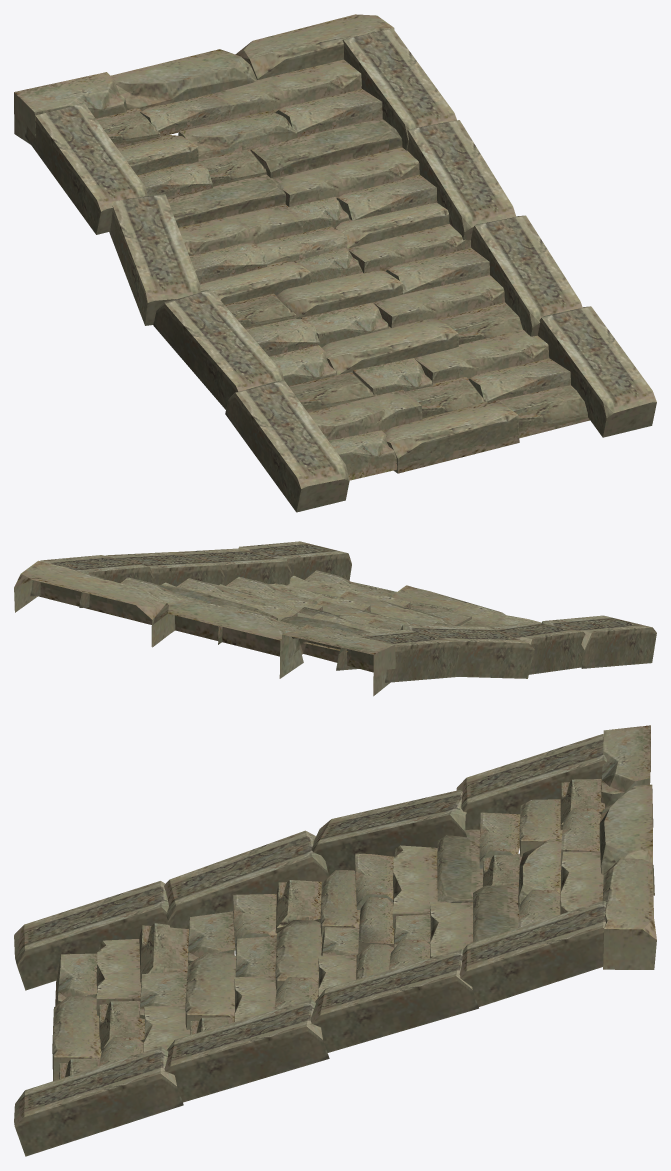
Rendered from Scene_Build_TaZiShaMo_PoSunShiTi_1.FBX.
The picture shows the model from 3 angles, top to bottom: view 1: azimuth 30°, elevation 25°; view 2: azimuth 150°, elevation 25°; view 3: azimuth 270°, elevation 25°; orthographic projection. The views are drawn at different scales.
Parts seen in each view (by area): view 1: Scene_Build_TaZiShaMo_PoSunShiTi_1; view 2: Scene_Build_TaZiShaMo_PoSunShiTi_1; view 3: Scene_Build_TaZiShaMo_PoSunShiTi_1.
Part boxes in pixels (box(x1,y1,x2,y2)): Scene_Build_TaZiShaMo_PoSunShiTi_1: box(14, 14, 656, 512); Scene_Build_TaZiShaMo_PoSunShiTi_1: box(14, 541, 656, 696); Scene_Build_TaZiShaMo_PoSunShiTi_1: box(14, 725, 656, 1156).
Bounding box in the file's own units: 552 × 302 × 739.
